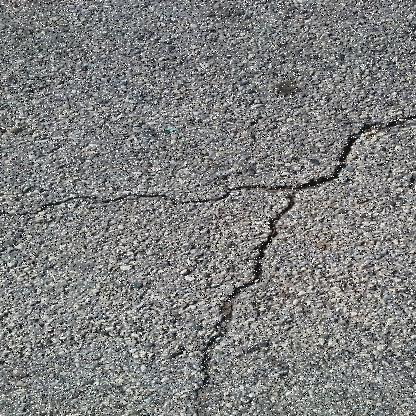Cracks: (185, 89, 415, 415)
